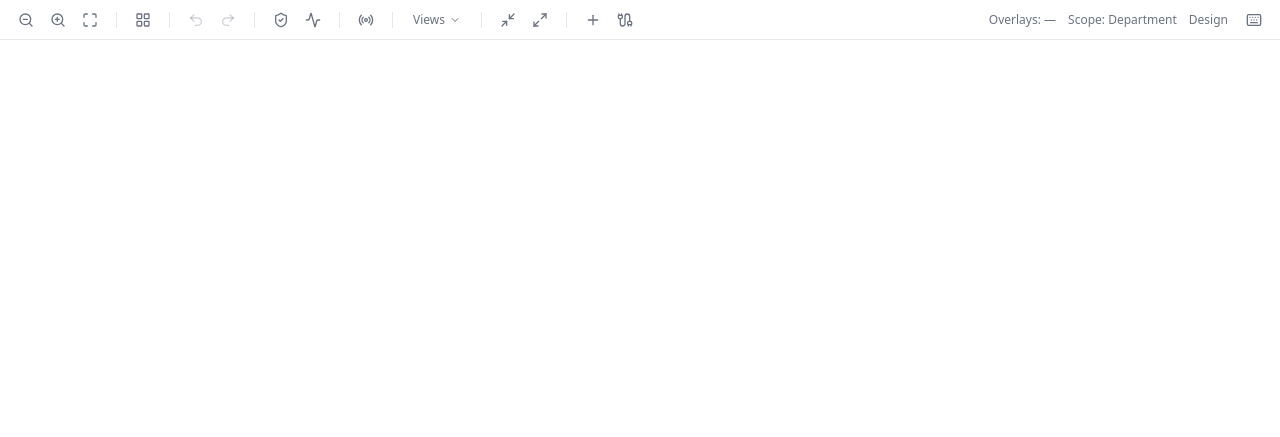
Test: CanvasToolbar — Node Palette (CAV-006) › should show L2 entity types at department view
Click the button with test id "node-palette-button".
click(593, 20)  # box [579, 6, 607, 34]
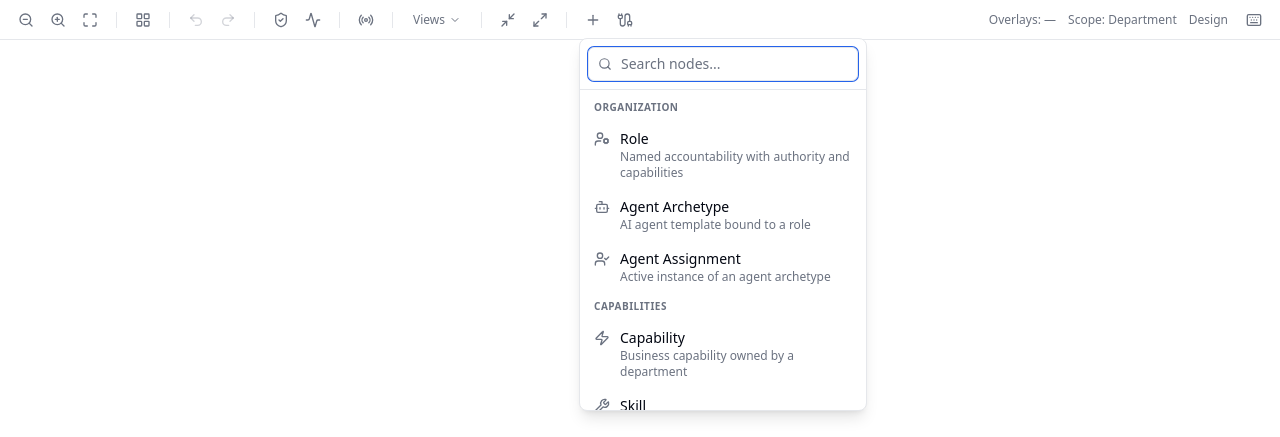
Expected: the button with test id "node-palette-item-role" is shown, [584, 120, 862, 188]
Expected: the button with test id "node-palette-item-capability" is shown, [584, 320, 862, 388]
Expected: the button with test id "node-palette-item-agent-archetype" is shown, [584, 188, 862, 240]
